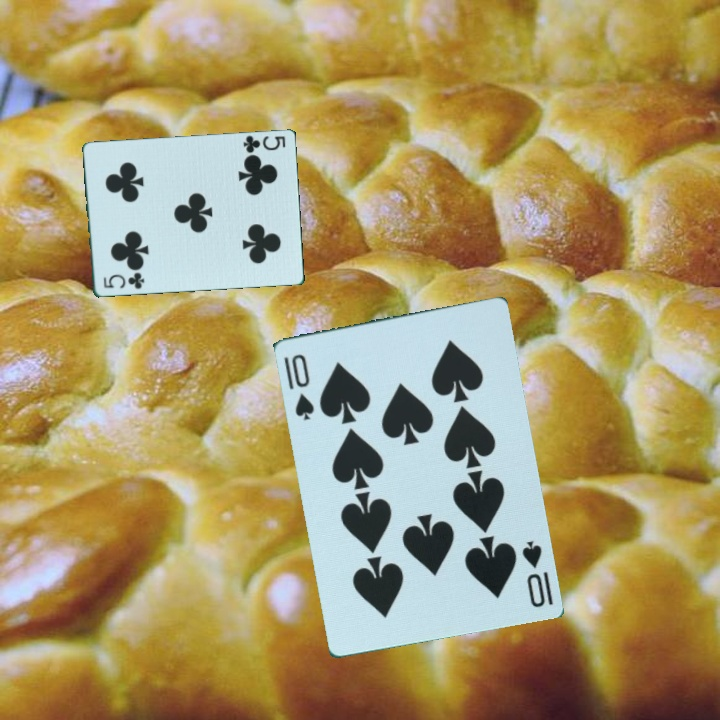10s: (518, 536, 556, 610), (280, 350, 317, 422)
5c: (239, 132, 288, 156), (100, 270, 147, 292)
